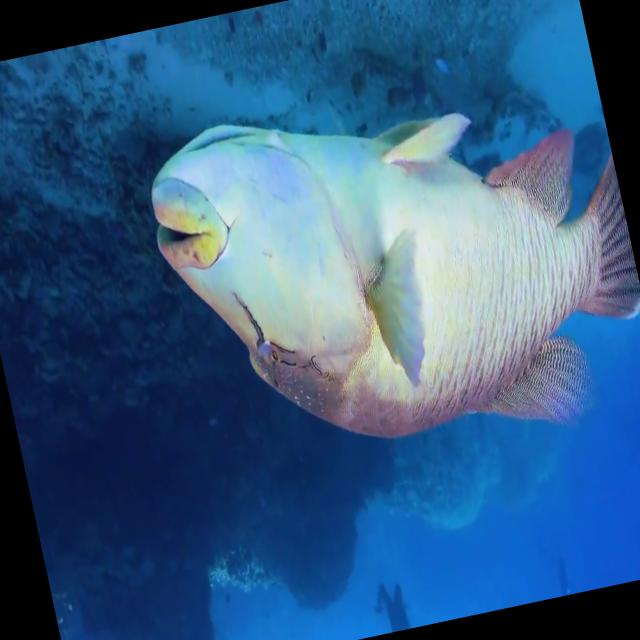fish: (132, 57, 640, 507)
